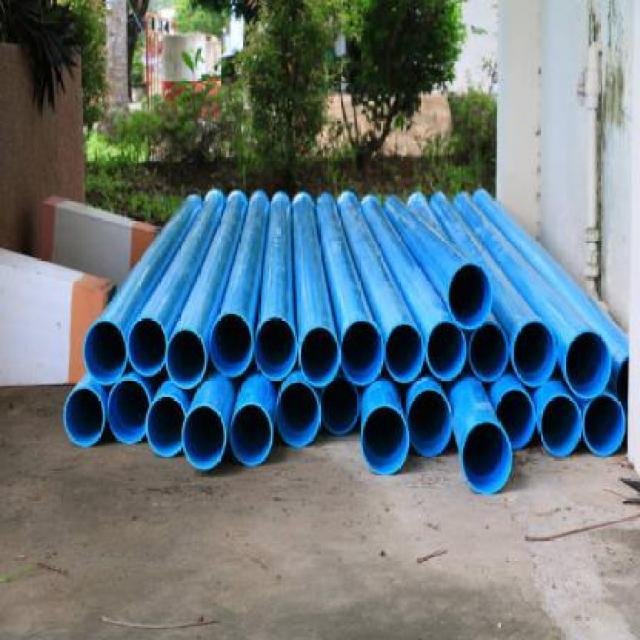pipe: (460, 420, 512, 493), (362, 405, 410, 475), (565, 331, 611, 399), (448, 263, 494, 330), (408, 391, 454, 458), (514, 320, 558, 388), (275, 381, 320, 446), (342, 319, 385, 385), (83, 320, 127, 384), (182, 406, 226, 470), (256, 315, 299, 380), (211, 312, 254, 376), (108, 379, 151, 443), (231, 403, 274, 467), (583, 396, 626, 457), (540, 395, 582, 457), (298, 326, 340, 386), (166, 329, 208, 389), (146, 396, 186, 457), (128, 317, 168, 376), (426, 322, 466, 381), (65, 388, 105, 447), (385, 323, 424, 383), (470, 322, 509, 381), (320, 374, 359, 433), (497, 389, 534, 450)
